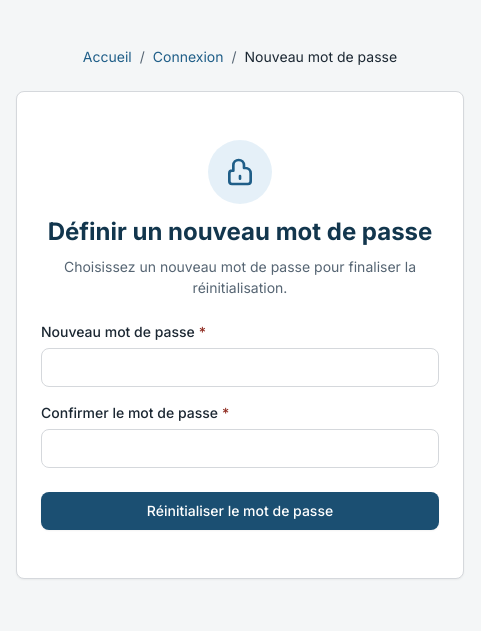
Test: ResetPasswordConfirmPage › affiche une erreur si les mots de passe sont différents
Type "Password1!" into the password field labelled "Nouveau mot de passe*". click: point(240, 368)
box: [41,348,439,387]
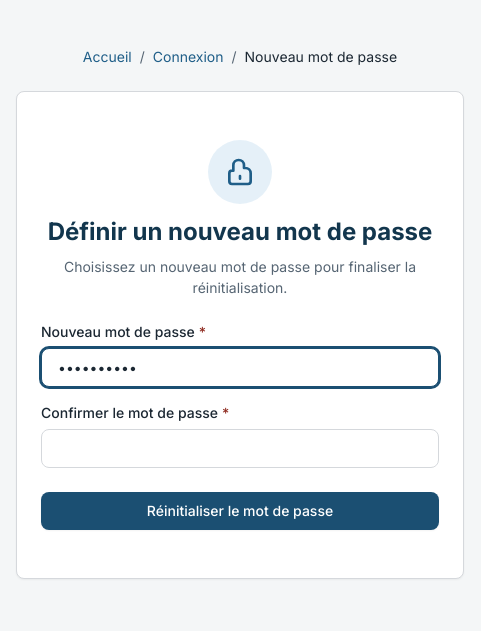
Type "Password2!" into the password field labelled "Confirmer le mot de passe*". click: point(240, 448)
box: [41,429,439,468]
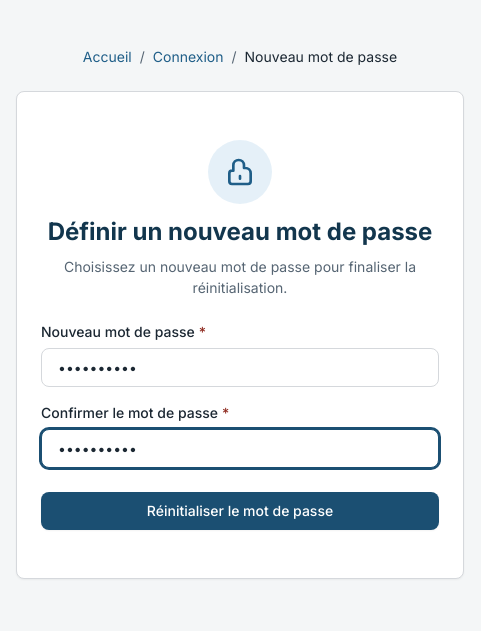
Click the button "Réinitialiser le mot de passe". click: point(240, 511)
box: [41,492,439,530]
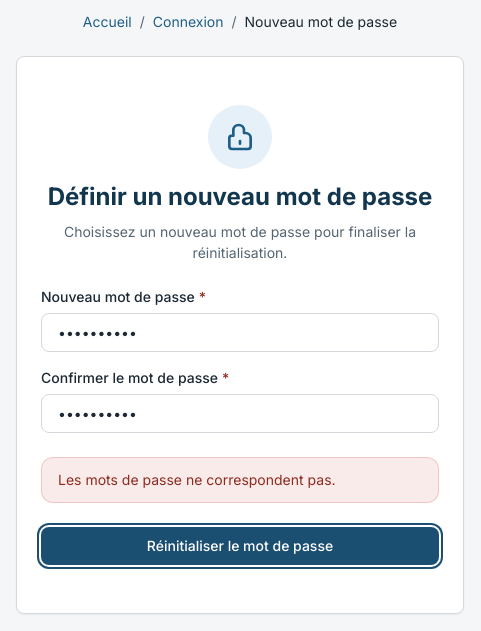
Expected: the text "Les mots de passe ne correspondent pas." is shown, [41,457,439,503]
